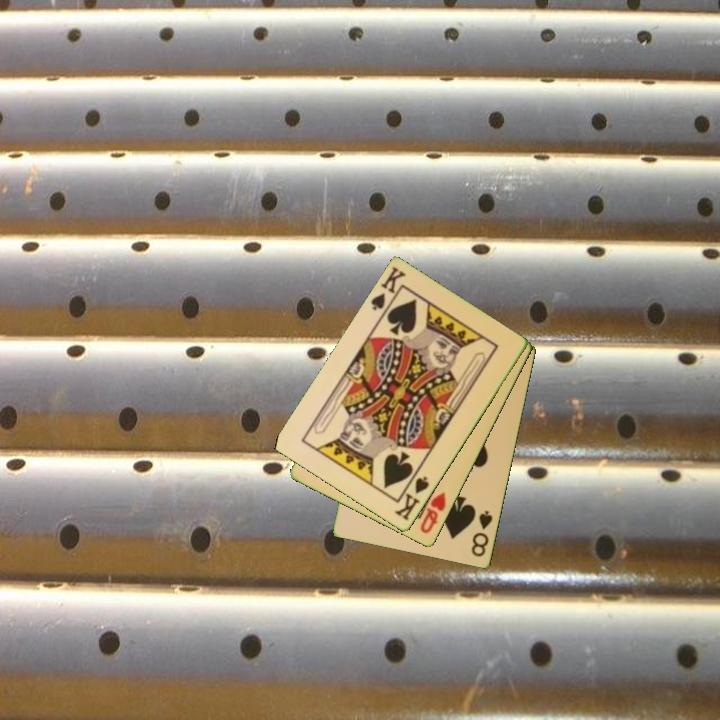8s: (468, 507, 496, 560)
Ks: (367, 263, 409, 320), (391, 473, 432, 524)
Qh: (417, 488, 449, 537)
